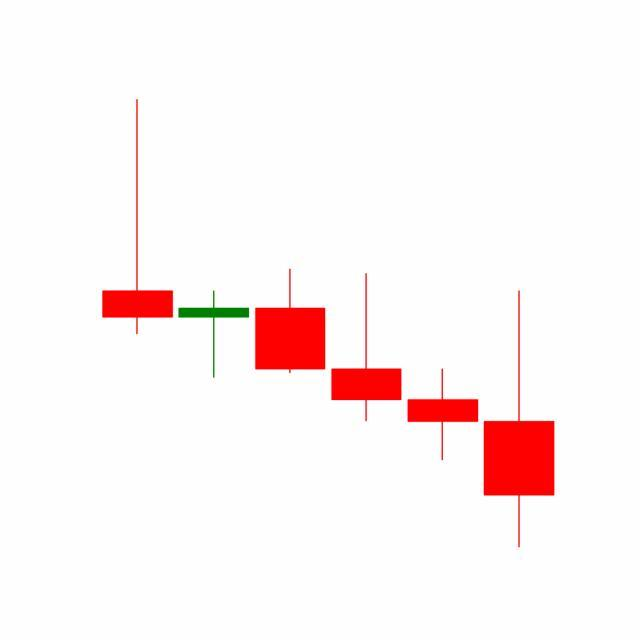Spinning Top: (404, 368, 482, 463)
